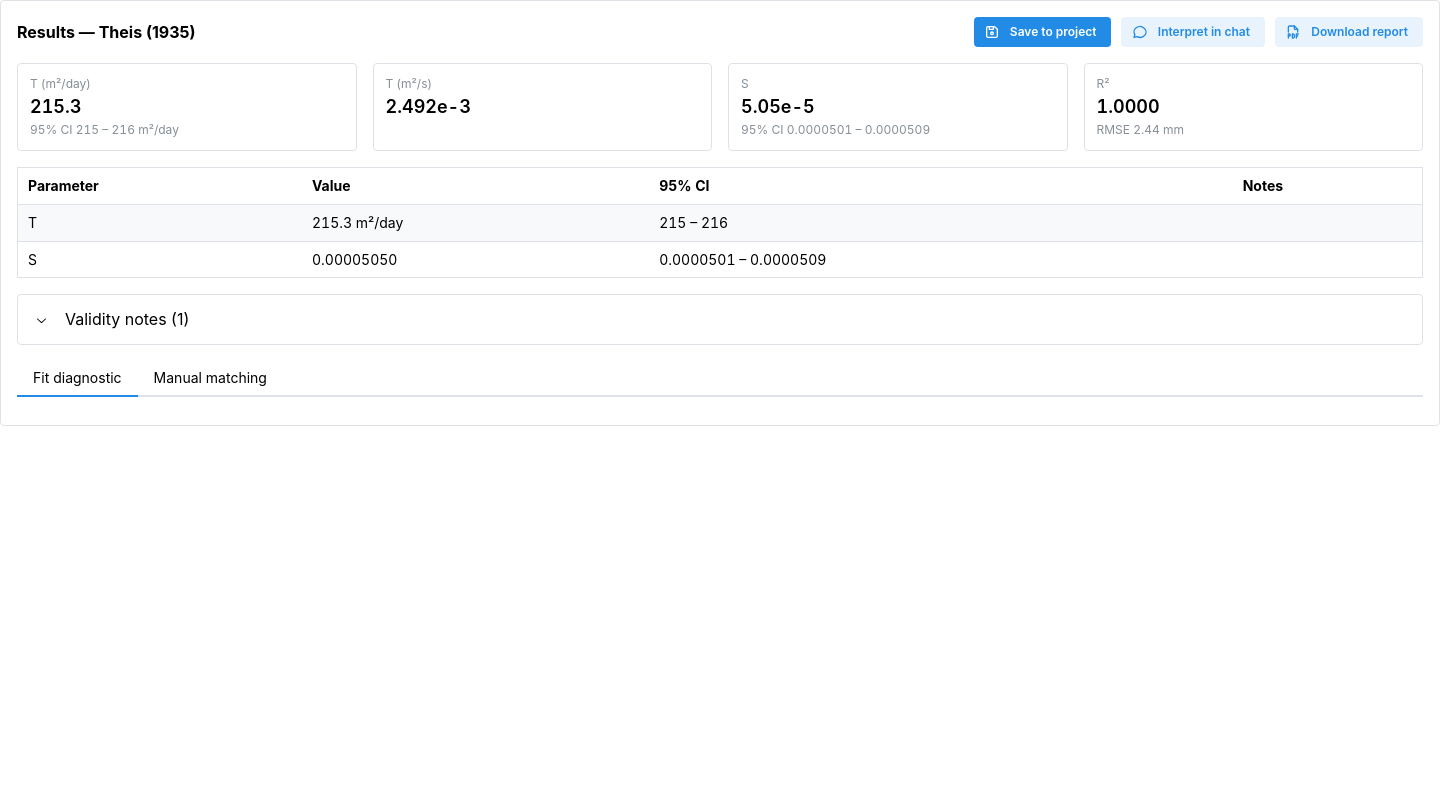
it: asking the consultant about the result › sends the interpretation question the Streamlit app asked
Click the button "Interpret in chat". click: {"x": 1193, "y": 32}
box: [1122,17,1265,47]
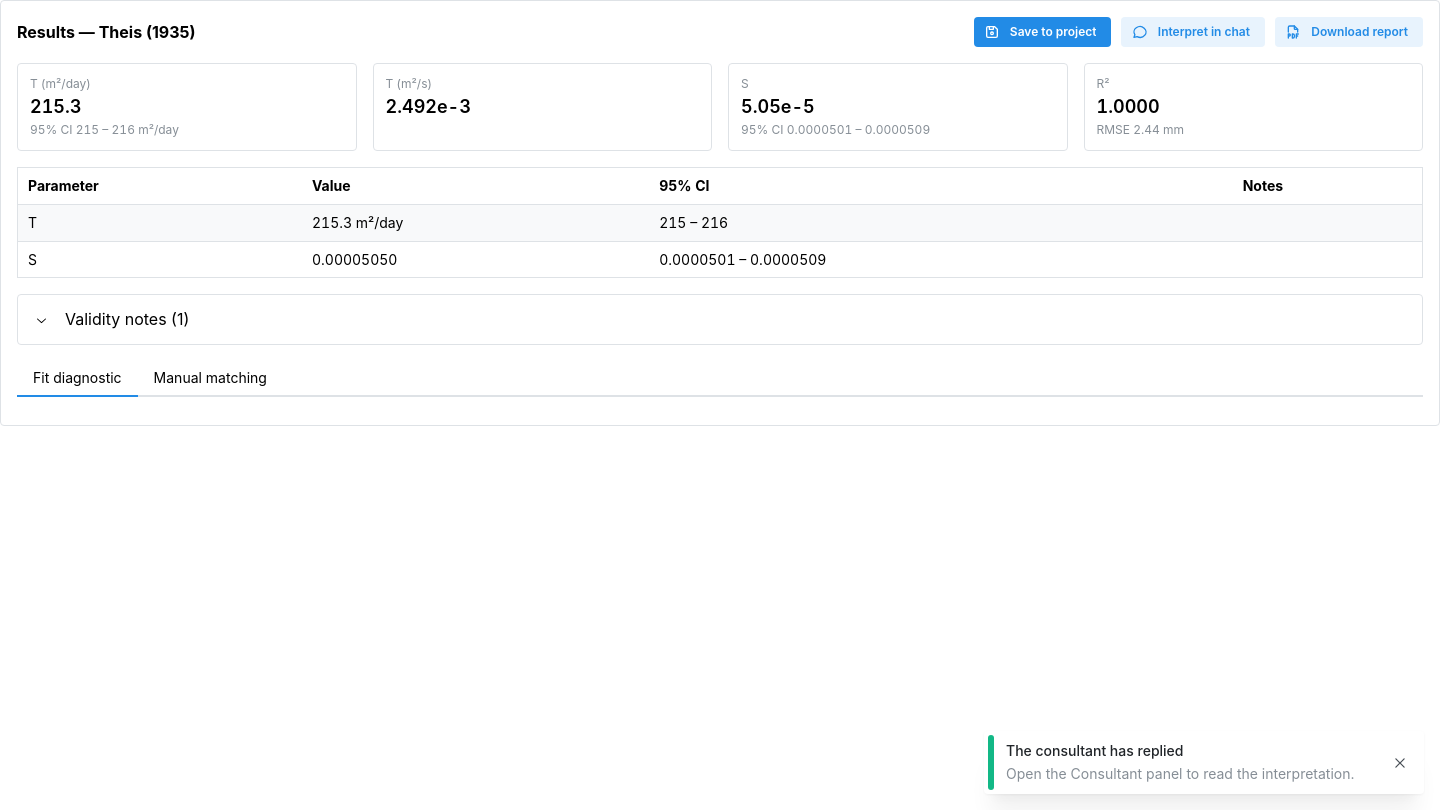
Expected: the text "The consultant has replied" is shown, [1006,742,1184,759]
